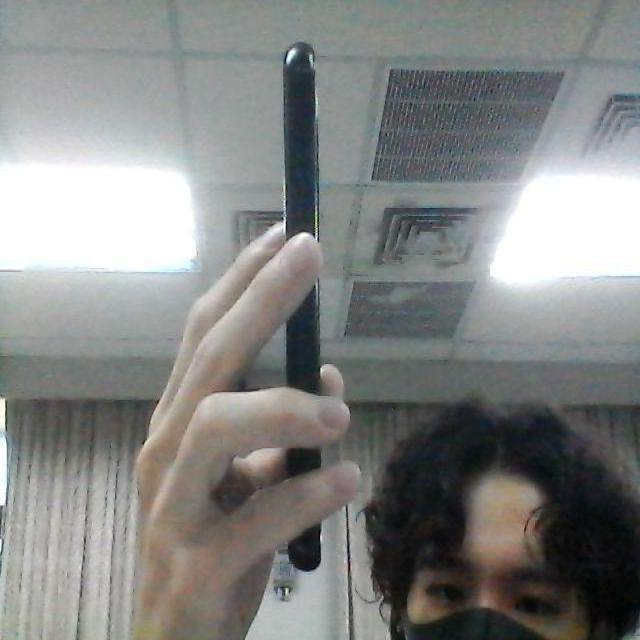mobile: (276, 32, 322, 588)
